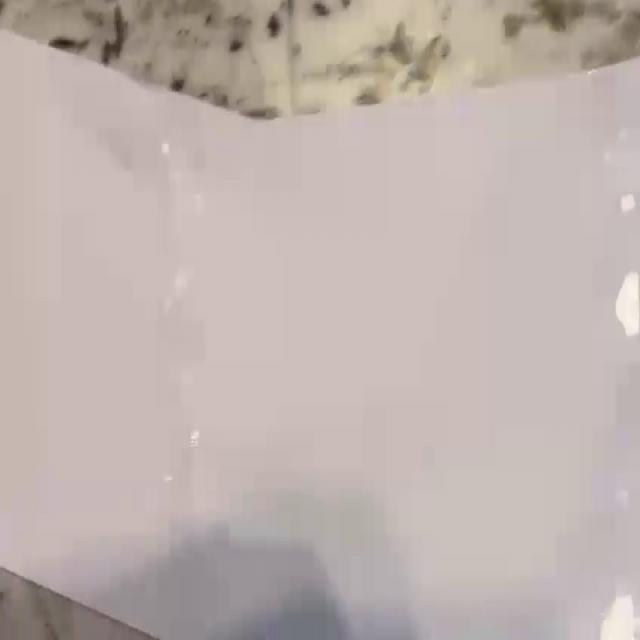road: (0, 31, 640, 639)
